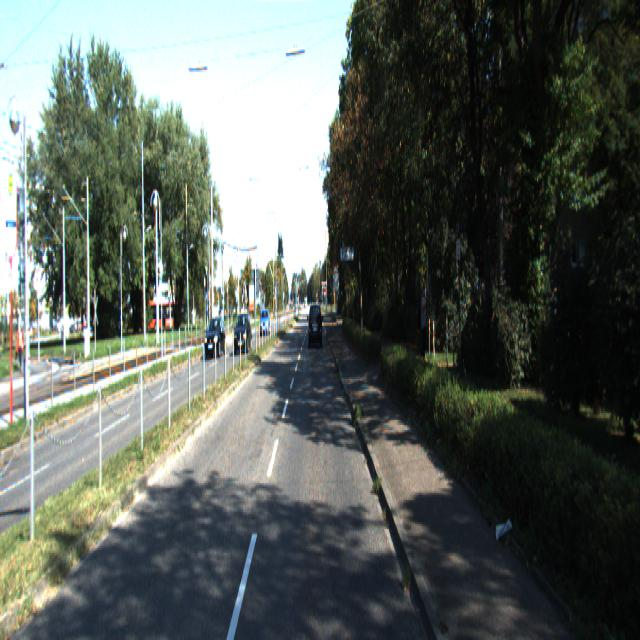Car: (204, 317, 226, 359), (234, 313, 252, 354), (309, 304, 323, 350), (260, 311, 270, 338)
